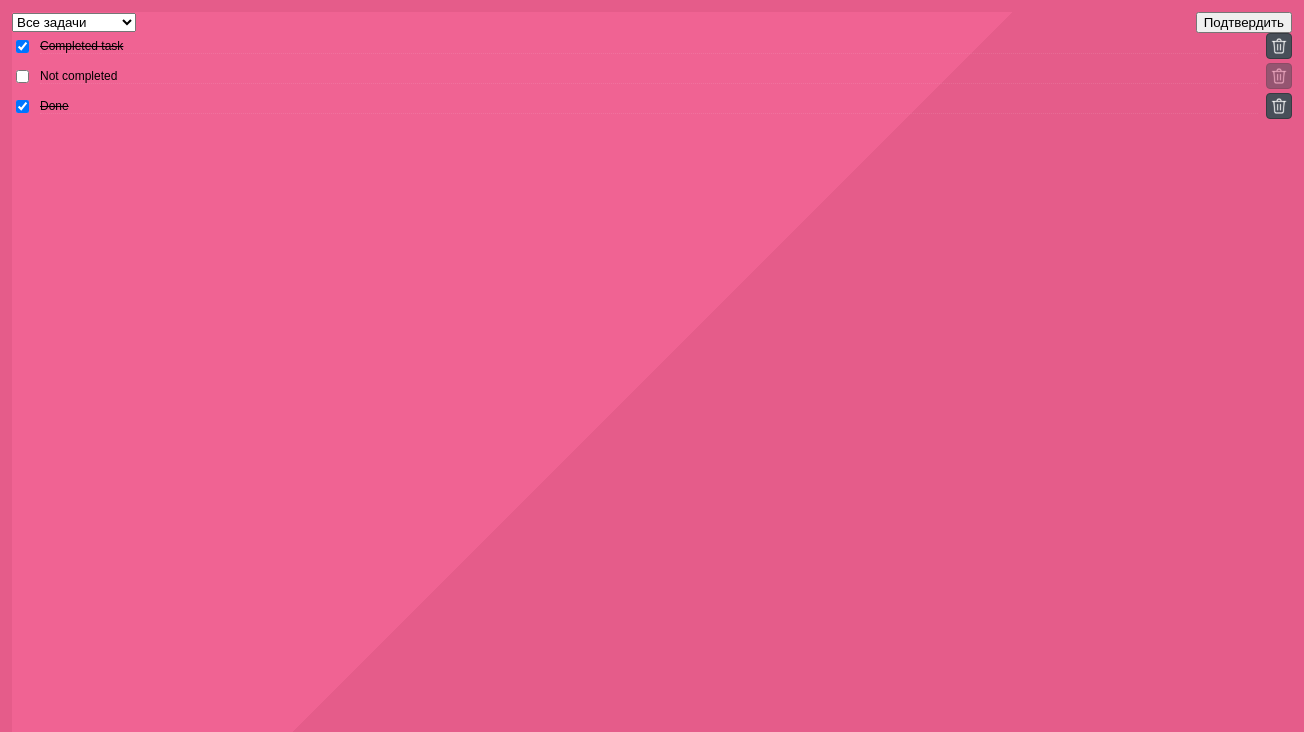
Список задач › Фильтр по выполненным
Step 1. Select "Выполненные" in the dropdown → x=74, y=22, box [12,13,136,32]
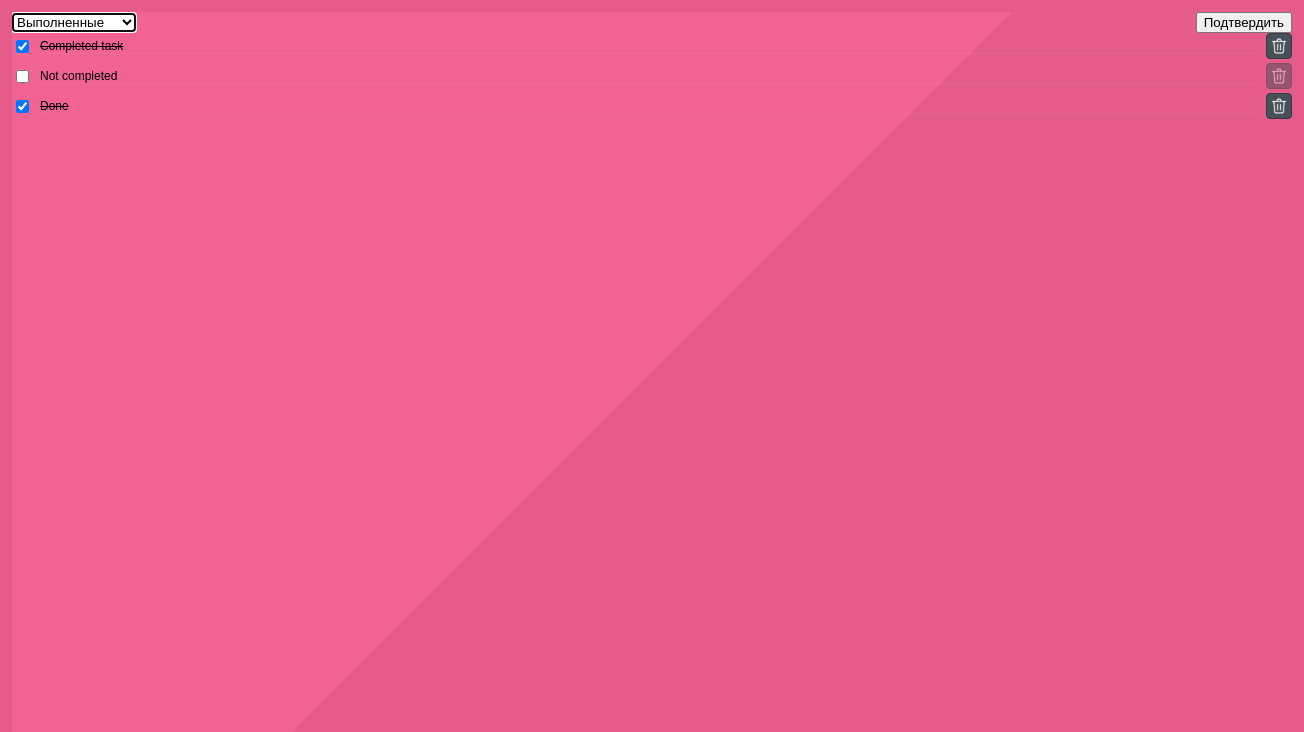
Step 2. Click the button "Подтвердить" → x=1244, y=22, box [1196,12,1292,33]
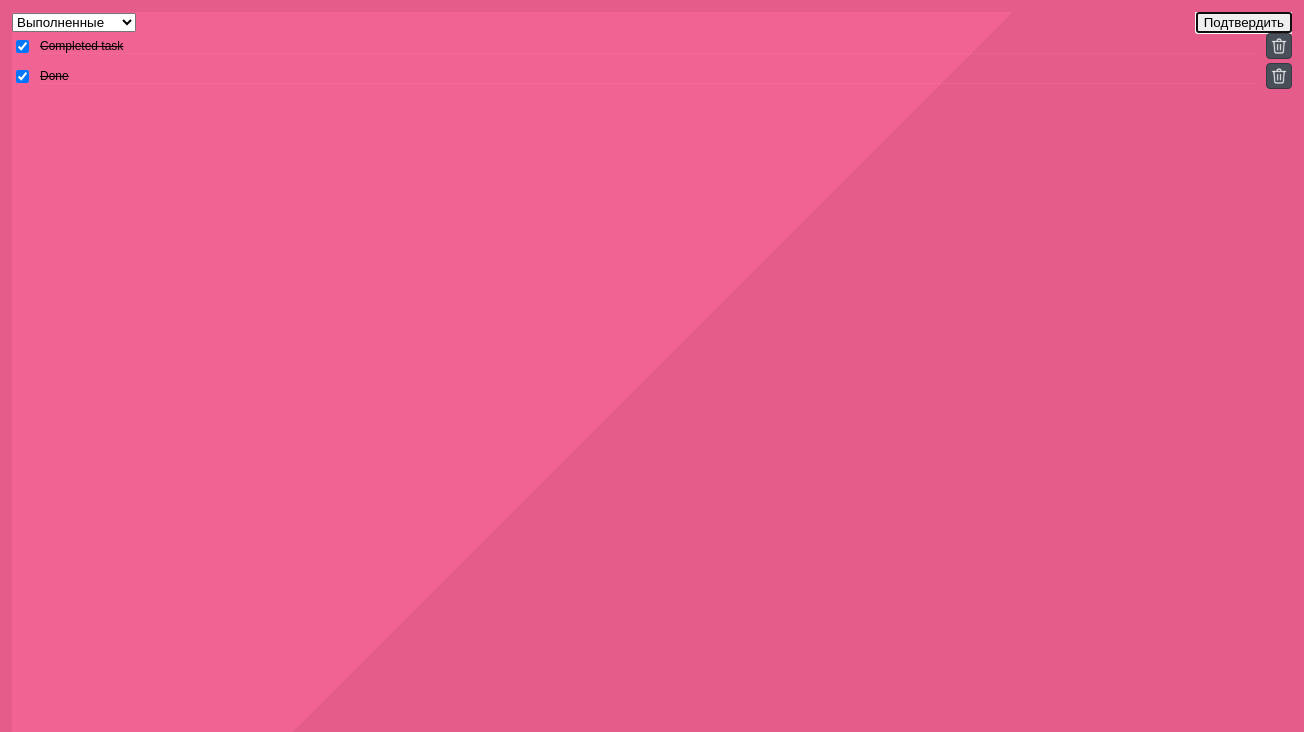
Expected: the text "Completed task" is shown, [40,38,123,52]
Expected: the text "Not completed" is gone
